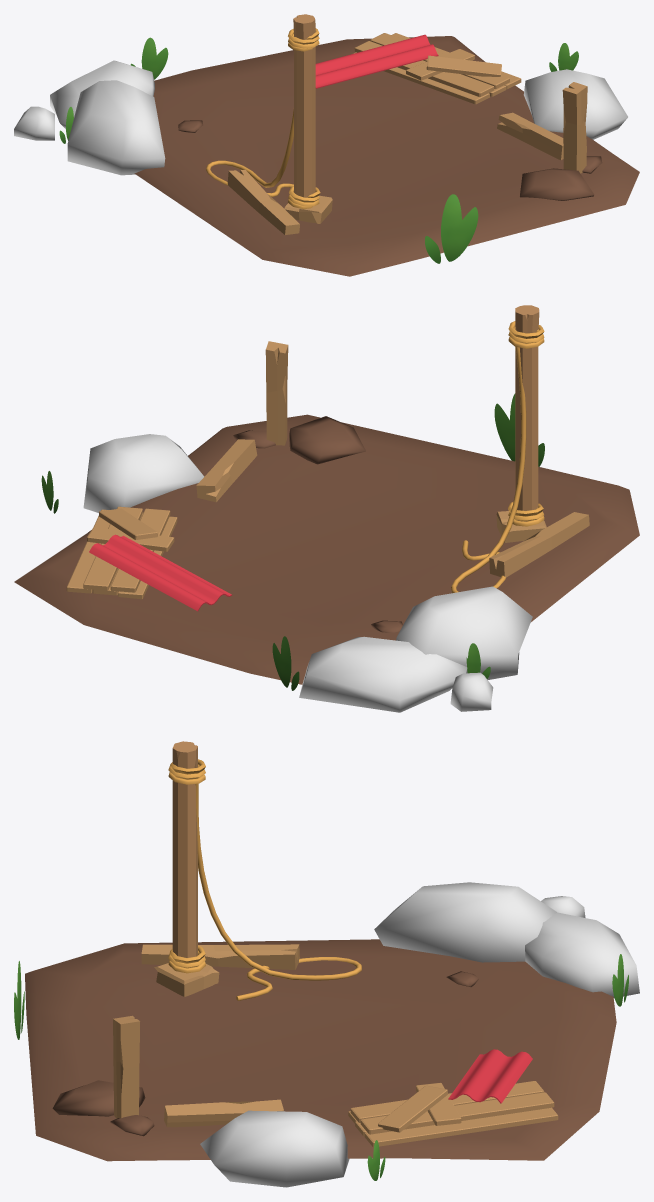
The model's file is SM_Construction_04.fbx.
3 views of the same model, one above another, from view 1: azimuth 30°, elevation 25°; view 2: azimuth 150°, elevation 25°; view 3: azimuth 270°, elevation 25° (orthographic). The views are drawn at different scales.
Parts seen in each view (by area): view 1: Cube.181, Stone_01.010, Cube.386, Cube.459, Cube.384, Plane.018, Stone_01.011, Grass.011, BezierCurve.004, Column_02.002, Grass.004, Grass.010; view 2: Cube.181, Stone_01.010, Cube.386, Cube.459, Cube.384, Plane.018, Stone_01.011, BezierCurve.004, Column_02.002, Grass.011, Grass.004; view 3: Cube.181, Stone_01.010, Cube.386, Cube.459, Cube.384, Stone_01.011, Plane.018, BezierCurve.004, Column_02.002.
Boxes of the visible parts, <box> form: Cube.181: <box>134,36,639,276</box>; Stone_01.010: <box>14,60,627,175</box>; Cube.386: <box>227,14,332,234</box>; Cube.459: <box>353,33,521,104</box>; Cube.384: <box>497,82,587,173</box>; Plane.018: <box>315,34,438,88</box>; Stone_01.011: <box>178,120,602,200</box>; Grass.011: <box>425,194,478,263</box>; BezierCurve.004: <box>206,108,293,196</box>; Column_02.002: <box>287,28,320,209</box>; Grass.004: <box>130,37,168,79</box>; Grass.010: <box>549,43,578,71</box>; Cube.181: <box>14,414,639,684</box>; Stone_01.010: <box>83,434,532,712</box>; Cube.386: <box>489,305,589,577</box>; Cube.459: <box>66,506,177,599</box>; Cube.384: <box>196,341,288,502</box>; Plane.018: <box>89,534,231,611</box>; Stone_01.011: <box>233,416,402,632</box>; BezierCurve.004: <box>451,346,526,593</box>; Column_02.002: <box>508,321,544,526</box>; Grass.011: <box>494,393,544,466</box>; Grass.004: <box>272,636,299,690</box>; Cube.181: <box>25,939,616,1161</box>; Stone_01.010: <box>200,882,639,1187</box>; Cube.386: <box>141,741,299,996</box>; Cube.459: <box>348,1081,558,1147</box>; Cube.384: <box>113,1015,283,1127</box>; Stone_01.011: <box>52,971,478,1136</box>; Plane.018: <box>448,1049,532,1103</box>; BezierCurve.004: <box>195,783,361,1000</box>; Column_02.002: <box>168,759,205,973</box>.
Bounding box in the file's own units: 14.99 × 6.26 × 14.29.
